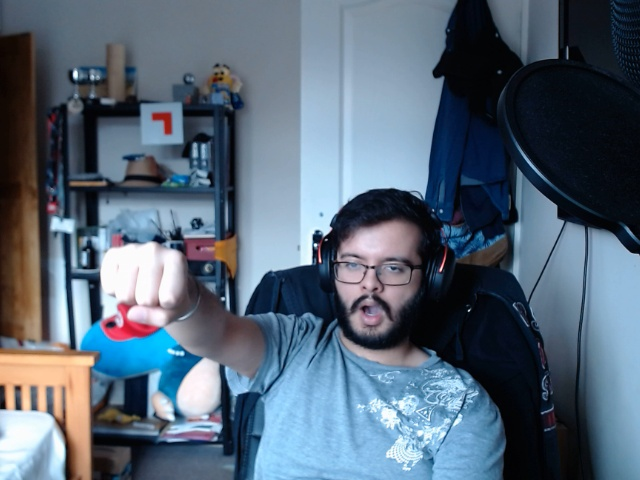Yes: (77, 239, 212, 336)
